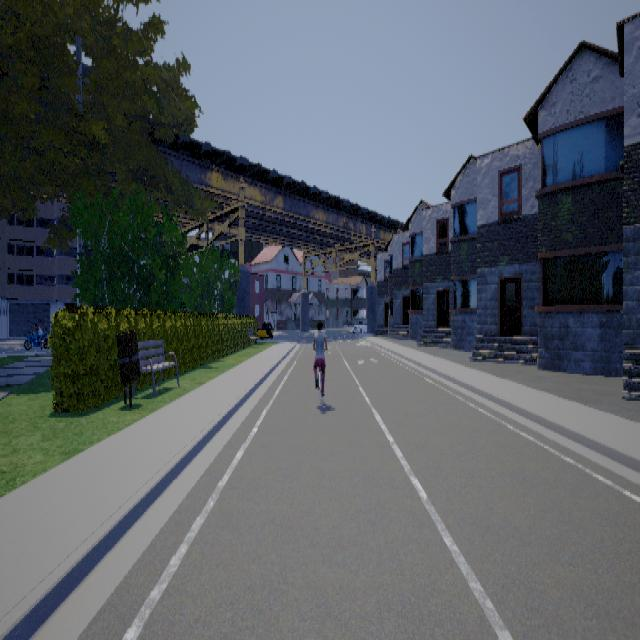bike: (310, 320, 333, 411)
